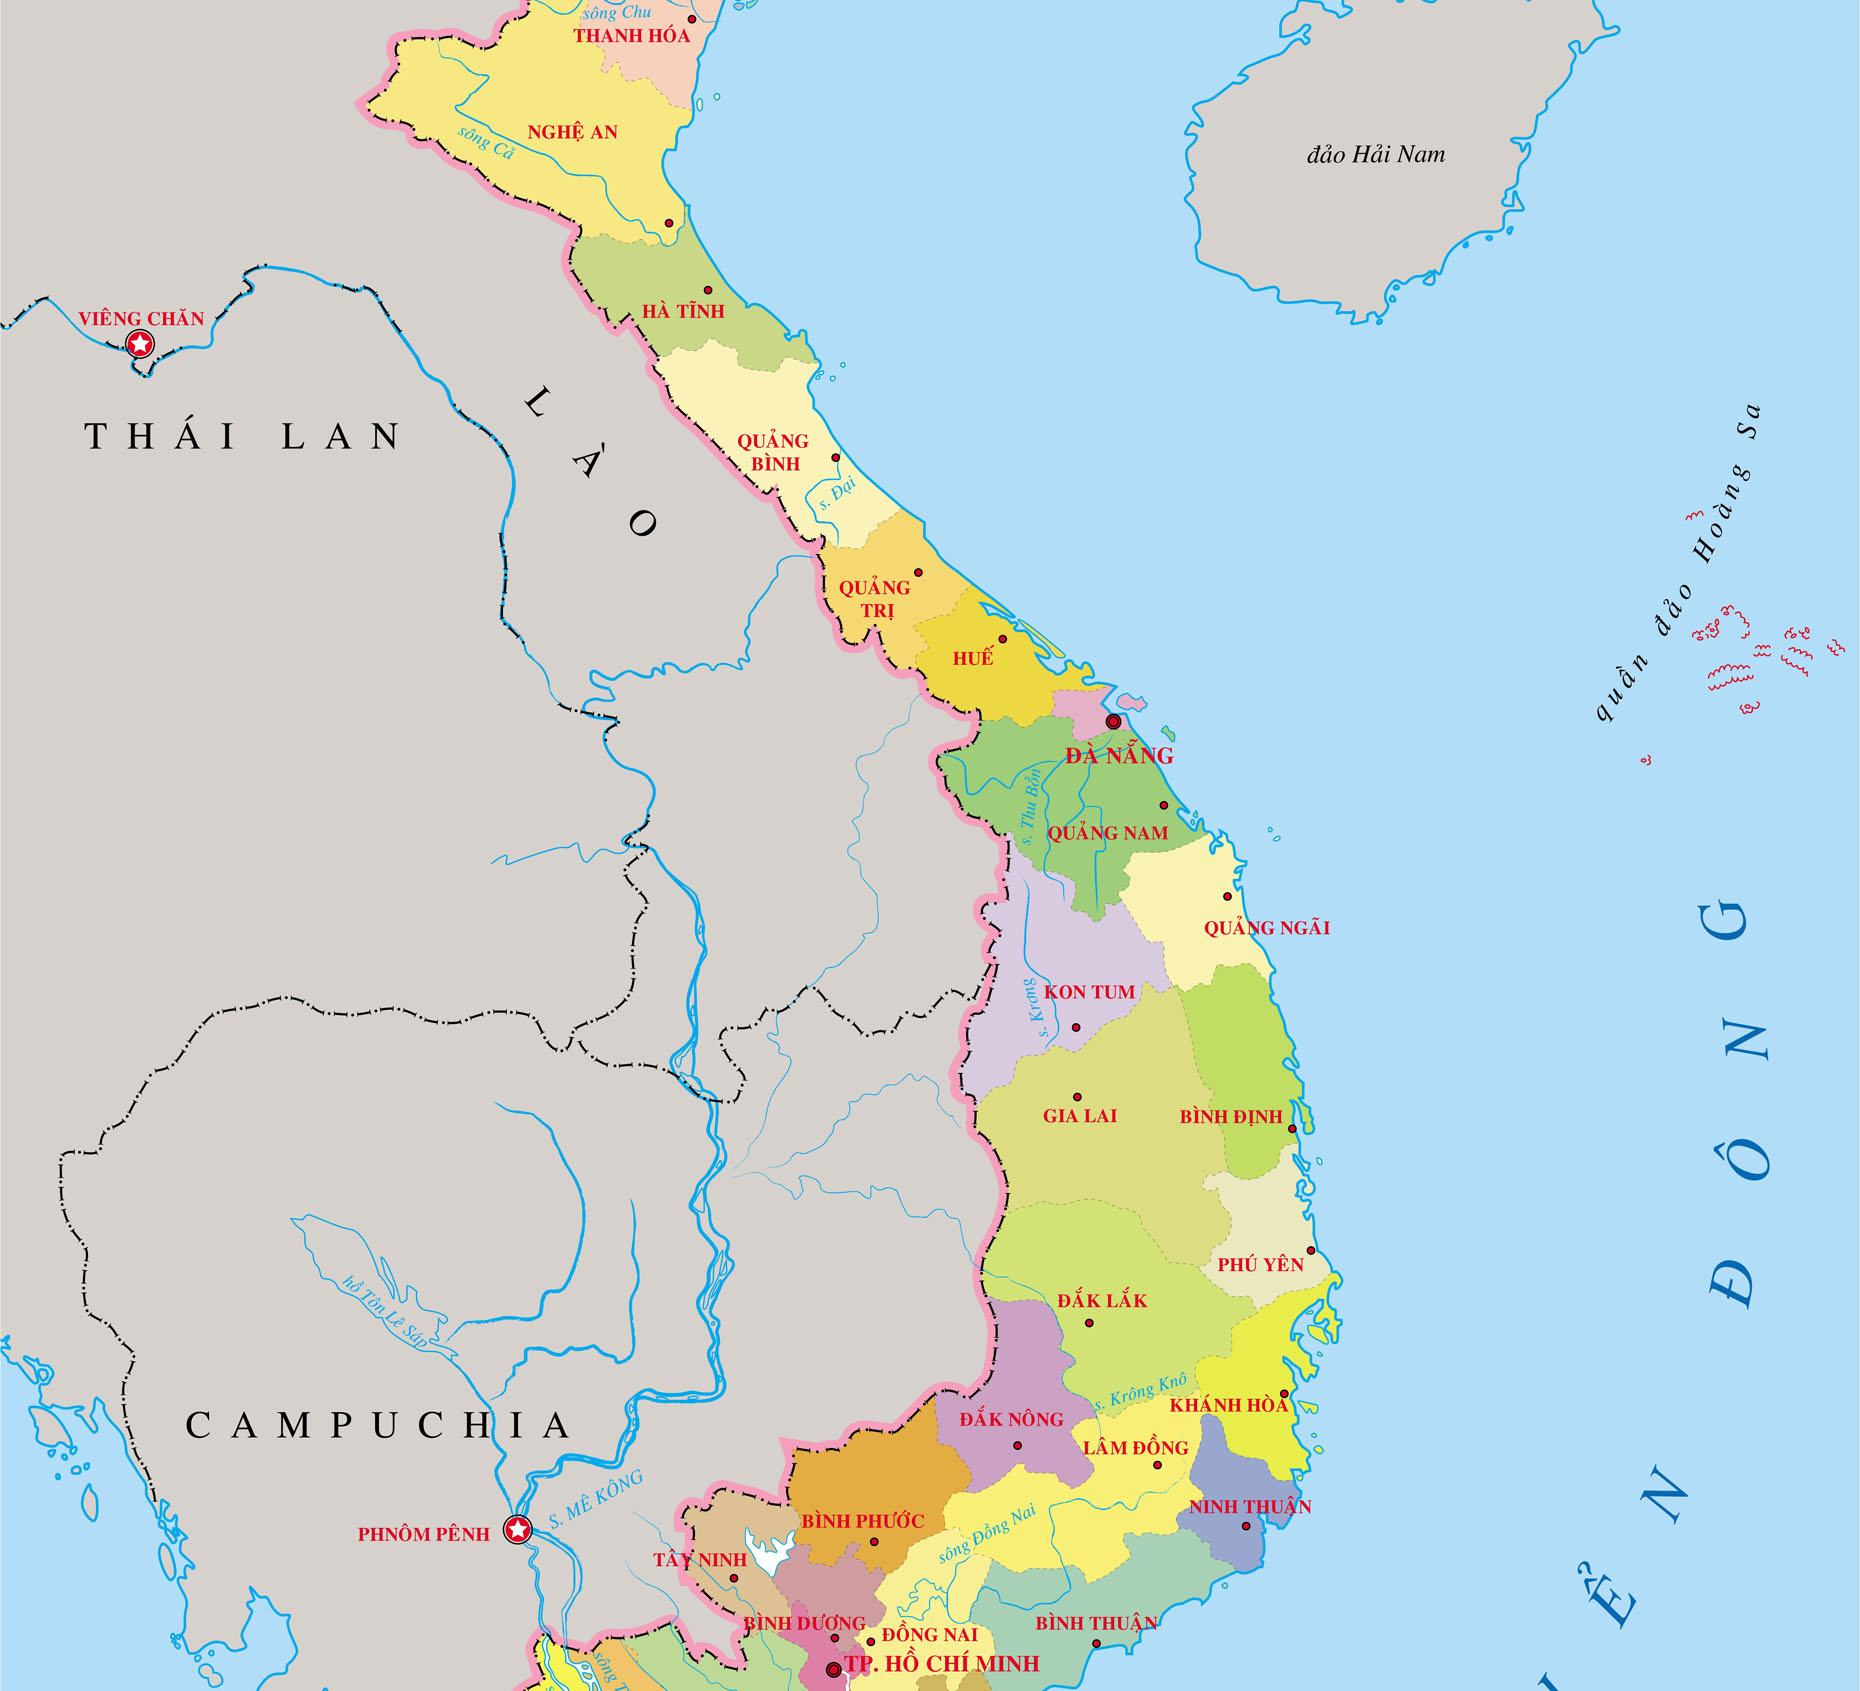Island: (1575, 389, 1847, 794)
